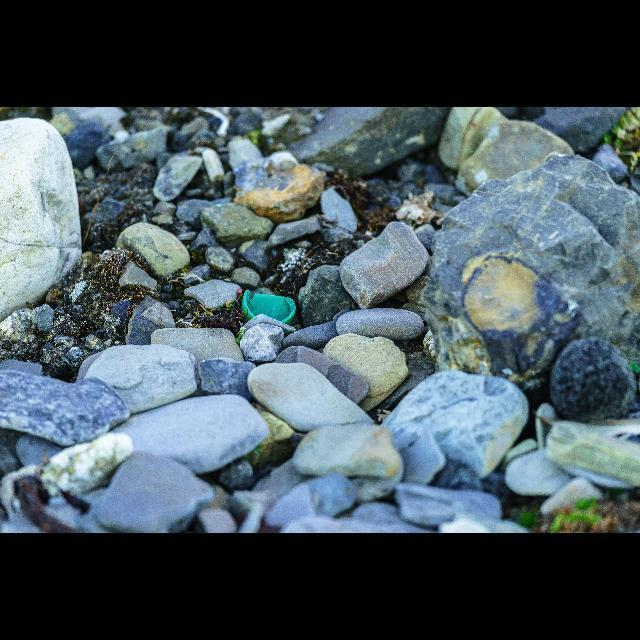Plastic: (241, 290, 295, 324)
